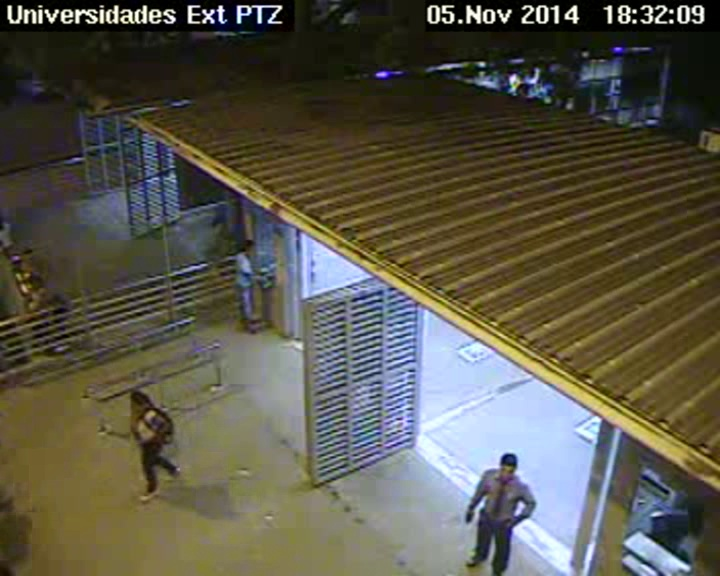person: (496, 449, 519, 480), (128, 390, 152, 414), (239, 237, 258, 257), (21, 248, 34, 260), (14, 260, 27, 272), (26, 292, 37, 303), (37, 287, 47, 296)
